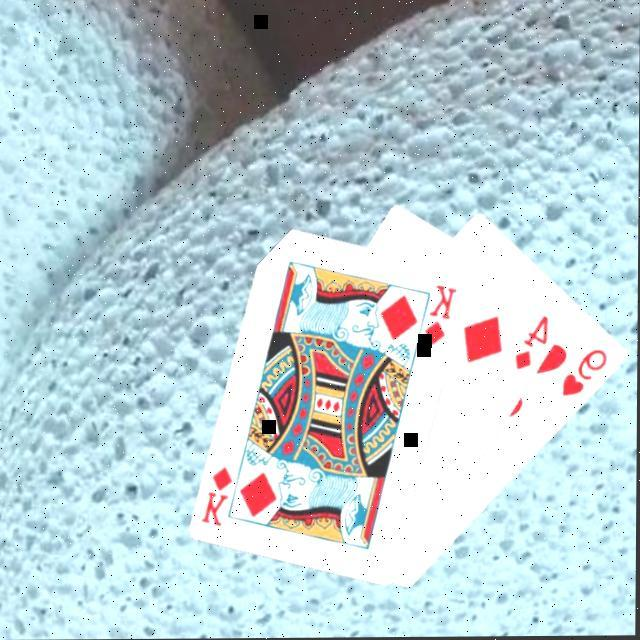4D: (511, 314, 552, 376)
9H: (559, 348, 611, 402)
KD: (420, 283, 460, 351), (198, 464, 236, 530)
